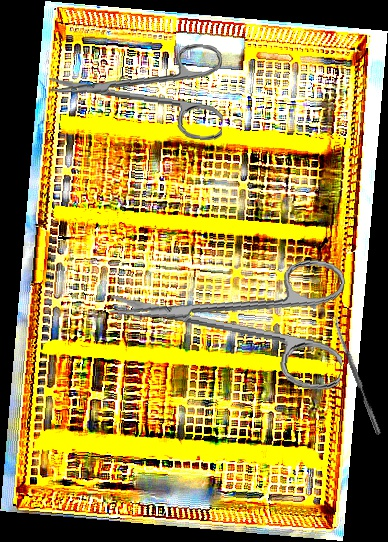Iris Scissors: (102, 235, 355, 393), (45, 33, 229, 142)
Surgical Spoon: (330, 314, 383, 436)
